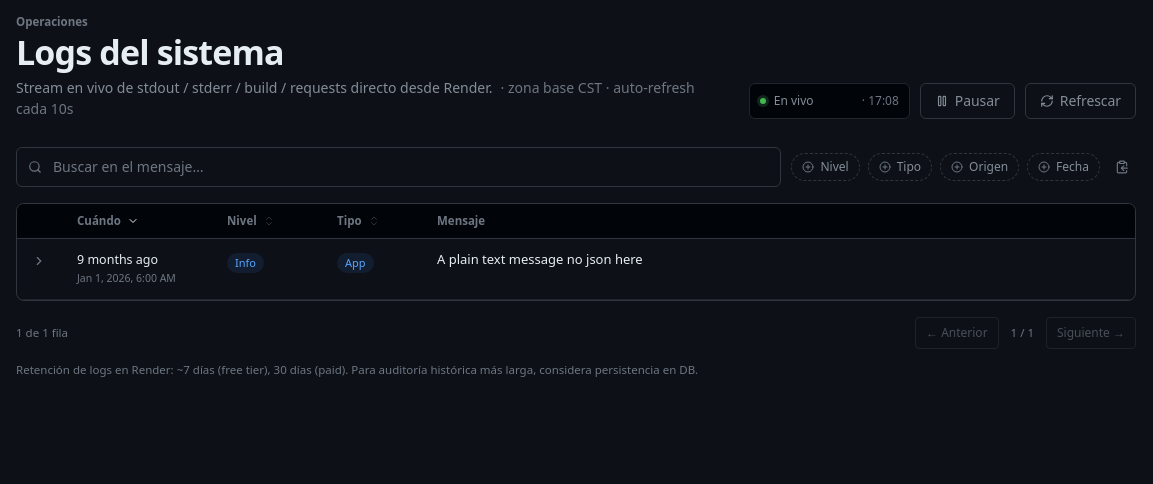
SystemLogsPage / LogDetail (expanded row) › renders detail when expanding a row with text-only message
Expected: the text "A plain text message no json here" is shown, [437,250,643,268]
Click the button named "Expandir fila". click: (39, 261)
box: [25,247,53,275]
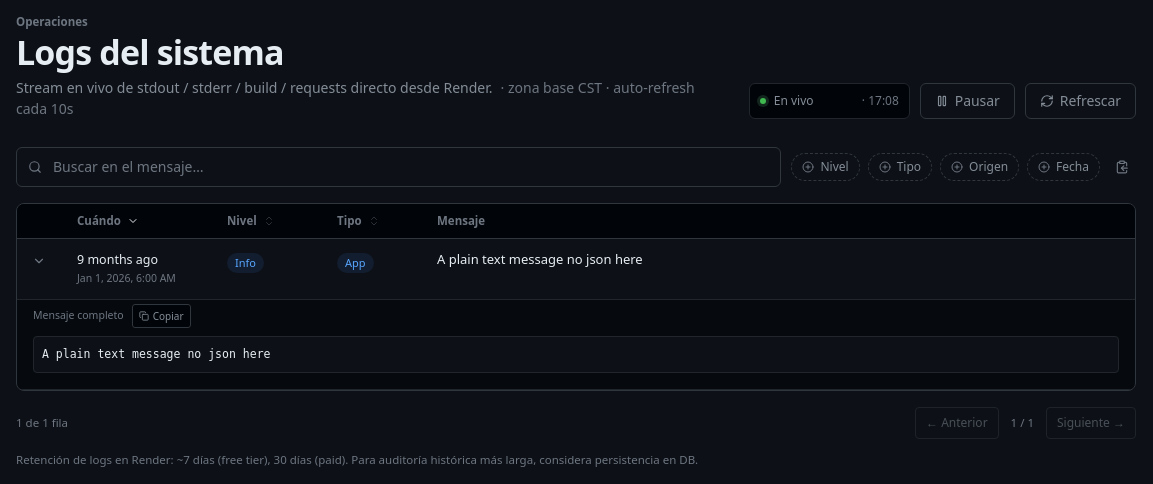
Expected: the text "Mensaje completo" is shown, [33,308,124,324]
